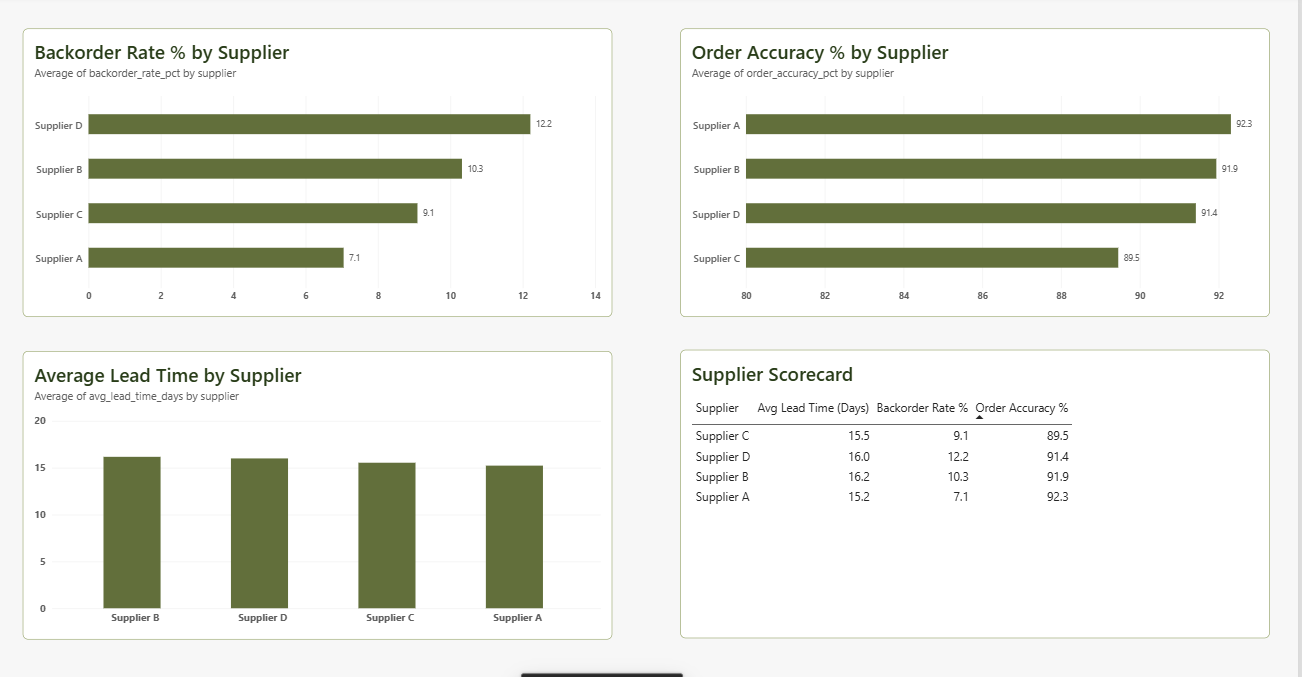

This screenshot's page, from the dashboard's own definition file:
{"tool":"powerbi","page":{"name":"Supplier Performance","canvas":[1920,1080],"ordinal":2},"visuals":[{"type":"clusteredBarChart","title":"Backorder Rate % by Supplier","fields":{"Category":["supply_chain_mis vw_supplier_scorecard.supplier"],"Y":["Avg(supply_chain_mis vw_supplier_scorecard.backorder_rate_pct)"]},"box":[42.3,47.9,868,425],"z":0},{"type":"clusteredBarChart","title":"Order Accuracy % by Supplier","fields":{"Category":["supply_chain_mis vw_supplier_scorecard.supplier"],"Y":["Avg(supply_chain_mis vw_supplier_scorecard.order_accuracy_pct)"]},"box":[1010.4,47.9,868,425],"z":1000},{"type":"clusteredColumnChart","title":"Average Lead Time by Supplier","fields":{"Category":["supply_chain_mis vw_supplier_scorecard.supplier"],"Y":["Avg(supply_chain_mis vw_supplier_scorecard.avg_lead_time_days)"]},"box":[42.3,522.7,868,425],"z":2000},{"type":"tableEx","title":"Supplier Scorecard","fields":{"Values":["supply_chain_mis vw_supplier_scorecard.supplier","supply_chain_mis vw_supplier_scorecard.avg_lead_time_days","supply_chain_mis vw_supplier_scorecard.backorder_rate_pct","supply_chain_mis vw_supplier_scorecard.order_accuracy_pct"]},"box":[1010.4,520.9,868,425],"z":3000}]}

Visuals, with their boxes on the page's 1920x1080 design canvas (x1, y1, x2, y2). These are canvas units, not pixel positions in the 1302x677 screenshot, which may show the page scaled, cropped or inside an application window:
"Backorder Rate % by Supplier" clusteredBarChart: [left=42, top=48, right=910, bottom=473]
"Order Accuracy % by Supplier" clusteredBarChart: [left=1010, top=48, right=1878, bottom=473]
"Average Lead Time by Supplier" clusteredColumnChart: [left=42, top=523, right=910, bottom=948]
"Supplier Scorecard" tableEx: [left=1010, top=521, right=1878, bottom=946]
